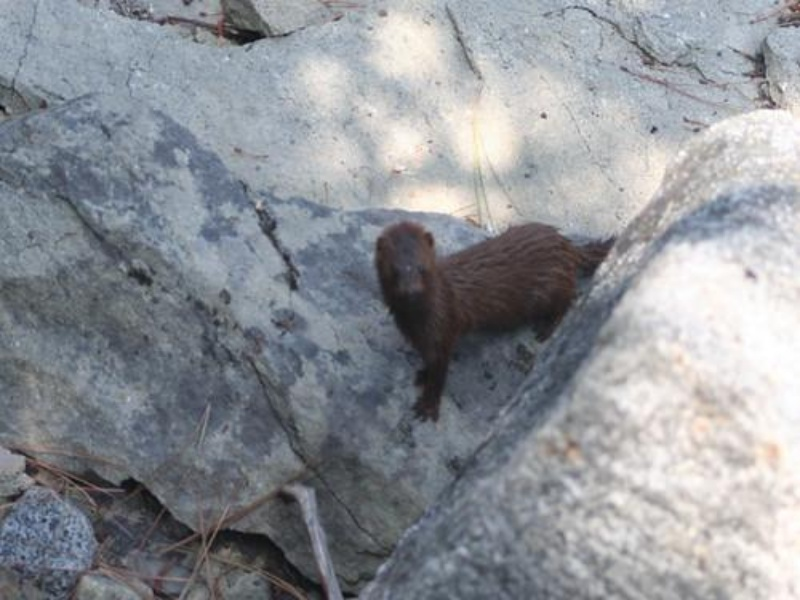minkish: (372, 217, 624, 423)
